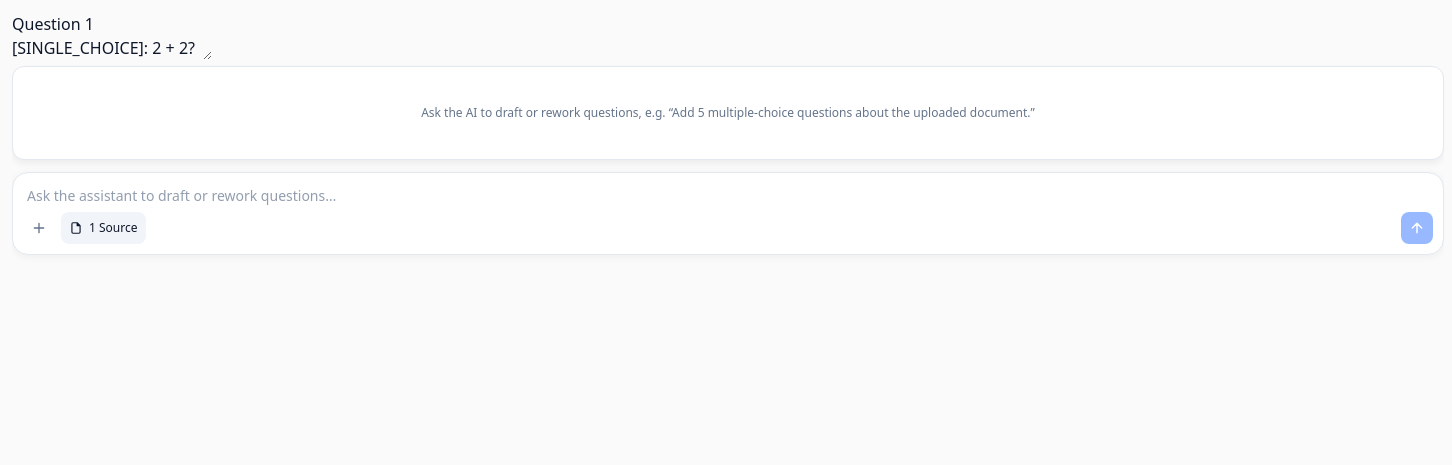
Test: AiAuthoringChat › sends instruction, current markdown, selected documents and prior history
The image size is (1452, 465).
Earlier steps of the test are not shown.
Later steps or results of the test are not shown.
expect the button named "Upload document" is enabled: met, box [23,212,55,244]
expect the button "1 Source" is shown: met, box [61,212,146,244]
Type "Add a question" into the text box named "Message the AI assistant".
click(728, 190); type("Add a question")  # box [13,172,1443,208]
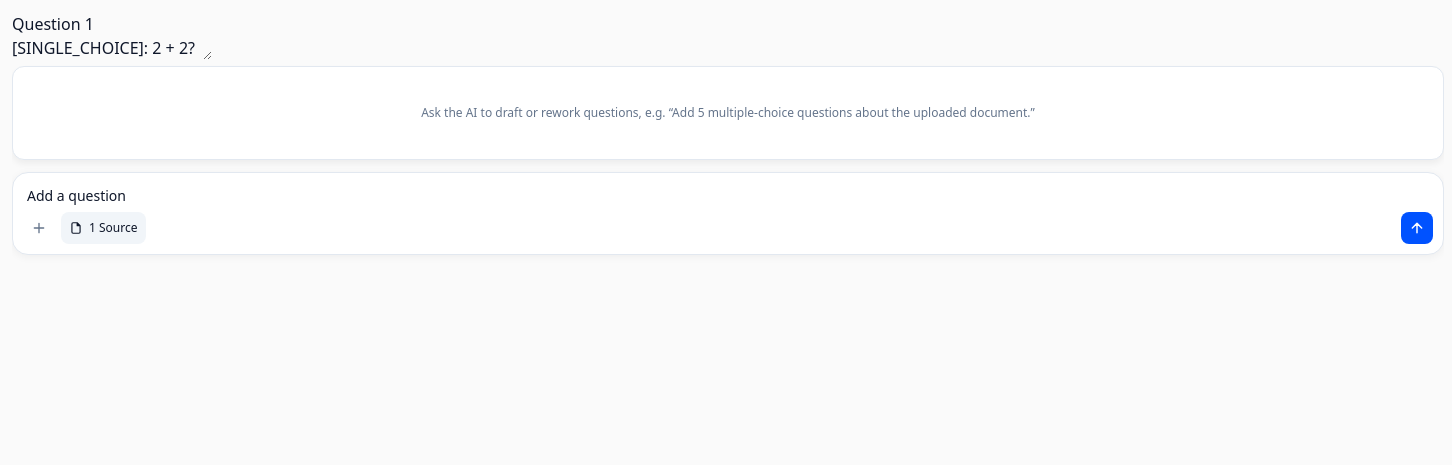
expect the button named "Send message" is enabled: met
Click the button named "Send message".
click(1417, 228)  # box [1401,212,1433,244]
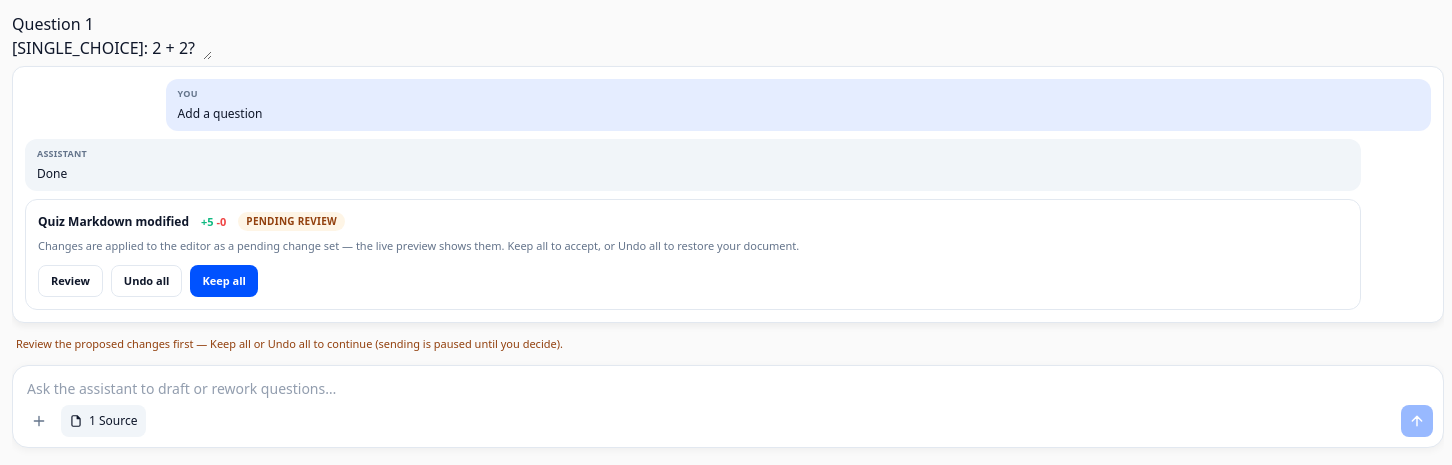
expect the button named "Send message" is disabled: met, box [1401,405,1433,437]
expect the text "Done" is shown: met, box [37,165,67,182]
Click the button "Keep all".
click(224, 281)  # box [190,265,258,297]
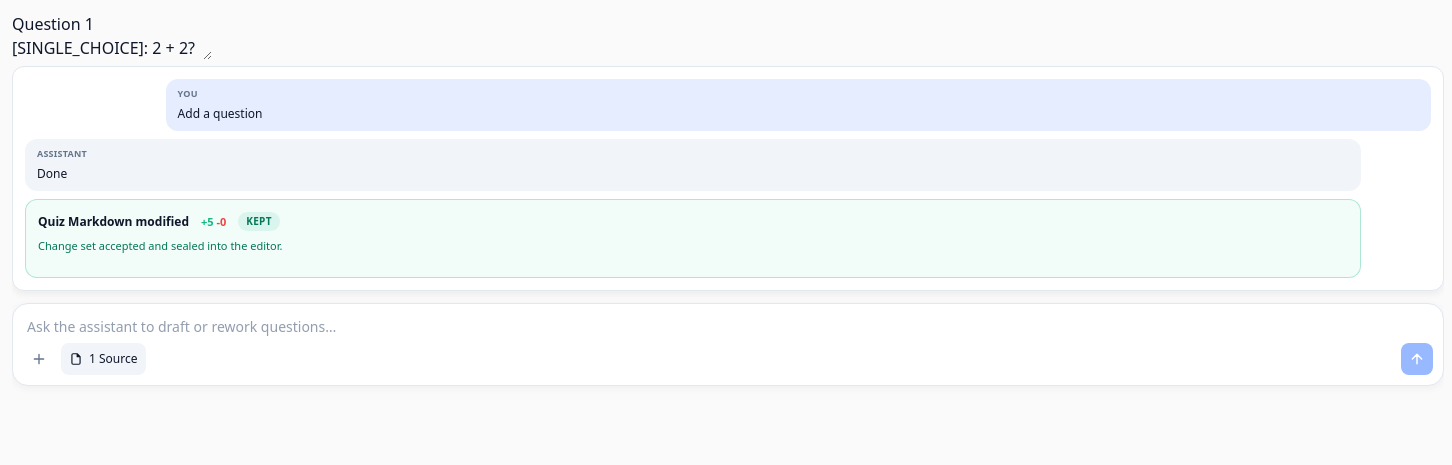
expect the text "Change set accepted and sealed into the editor." is shown: met, box [38,238,282,253]
Type "Another one" into the text box named "Message the AI assistant".
click(728, 322); type("Another one")  # box [13,304,1443,339]
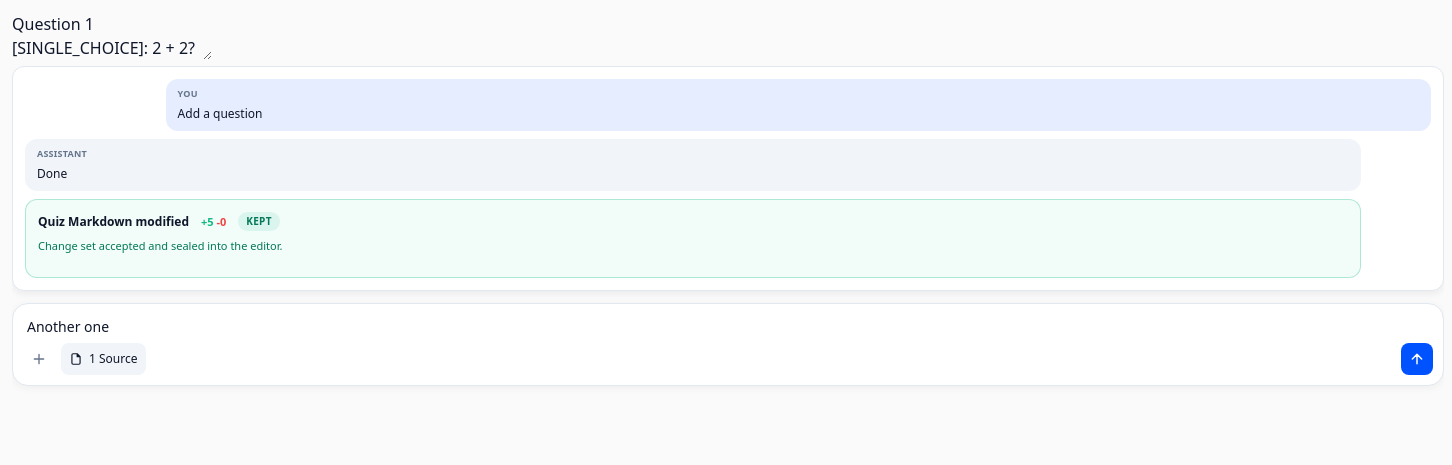
expect the button named "Send message" is enabled: met, box [1401,343,1433,375]
